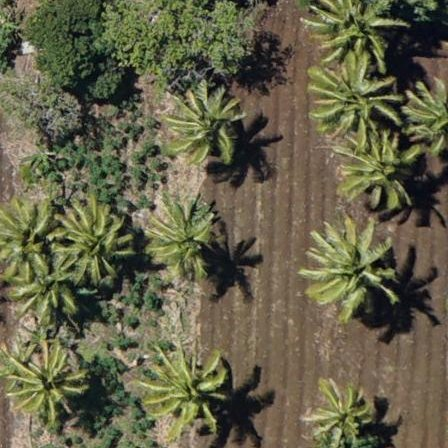palm_tree: (52, 207, 133, 292), (311, 51, 391, 136), (142, 342, 222, 427), (136, 196, 216, 281), (307, 224, 384, 306), (169, 84, 244, 164), (13, 347, 83, 422), (304, 376, 373, 448), (343, 133, 415, 202), (1, 201, 58, 283), (309, 1, 389, 58)
